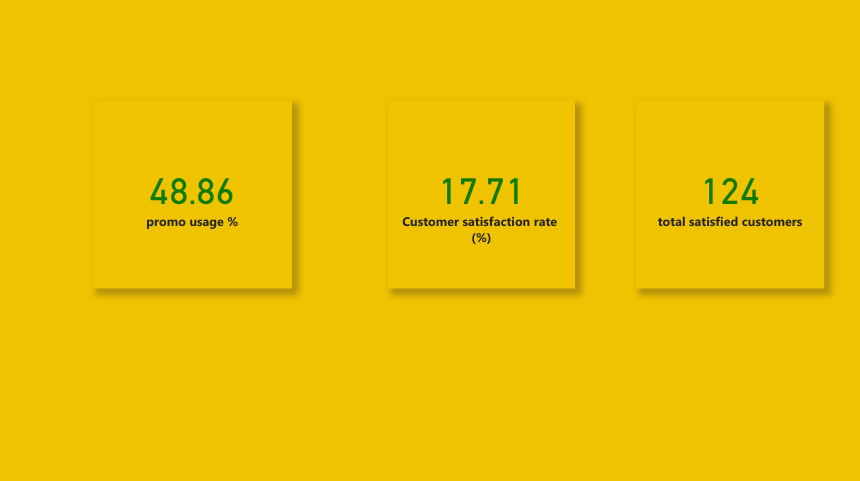

This screenshot's page, from the dashboard's own definition file:
{"tool":"powerbi","page":{"name":"Dax measure","canvas":[1280,720],"ordinal":1},"visuals":[{"type":"card","fields":{"Values":["measure.total satisfied customers"]},"box":[946,150,280,280],"z":0},{"type":"card","fields":{"Values":["measure.Customer satisfaction rate (%)"]},"box":[578,150,278,280],"z":1000},{"type":"card","fields":{"Values":["measure.promo usage %"]},"box":[140,150,296,280],"z":2000}]}

Visuals, with their boxes in screenshot pixels (x1, y1, x2, y2), scaled from the page's 1280x720 canvas onto the 860x481 screenshot:
card - measure.total satisfied customers: bbox=(636, 100, 824, 287)
card - measure.Customer satisfaction rate (%): bbox=(388, 100, 575, 287)
card - measure.promo usage %: bbox=(94, 100, 293, 287)
